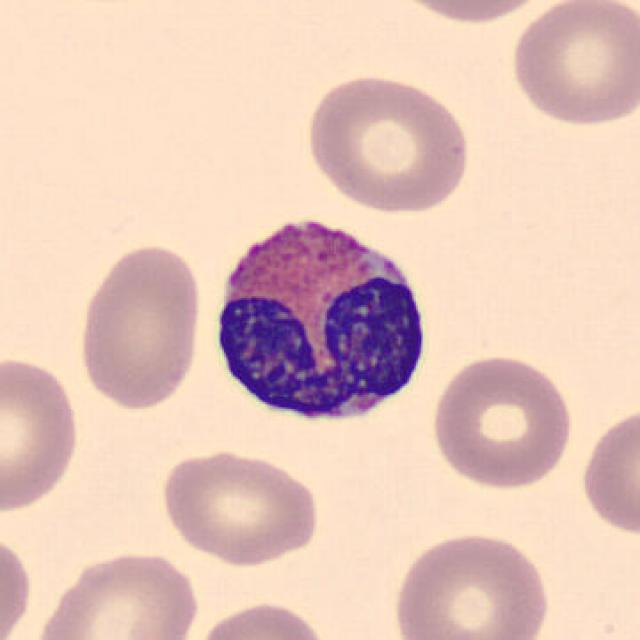Eosinophil: (199, 199, 437, 439)
RBC: (300, 69, 477, 215), (73, 240, 206, 412), (427, 349, 578, 492), (154, 444, 323, 568), (388, 527, 554, 640), (504, 0, 638, 130), (28, 546, 202, 640), (0, 352, 84, 516), (576, 400, 640, 541), (188, 597, 332, 640), (380, 0, 560, 28), (0, 525, 36, 640)
